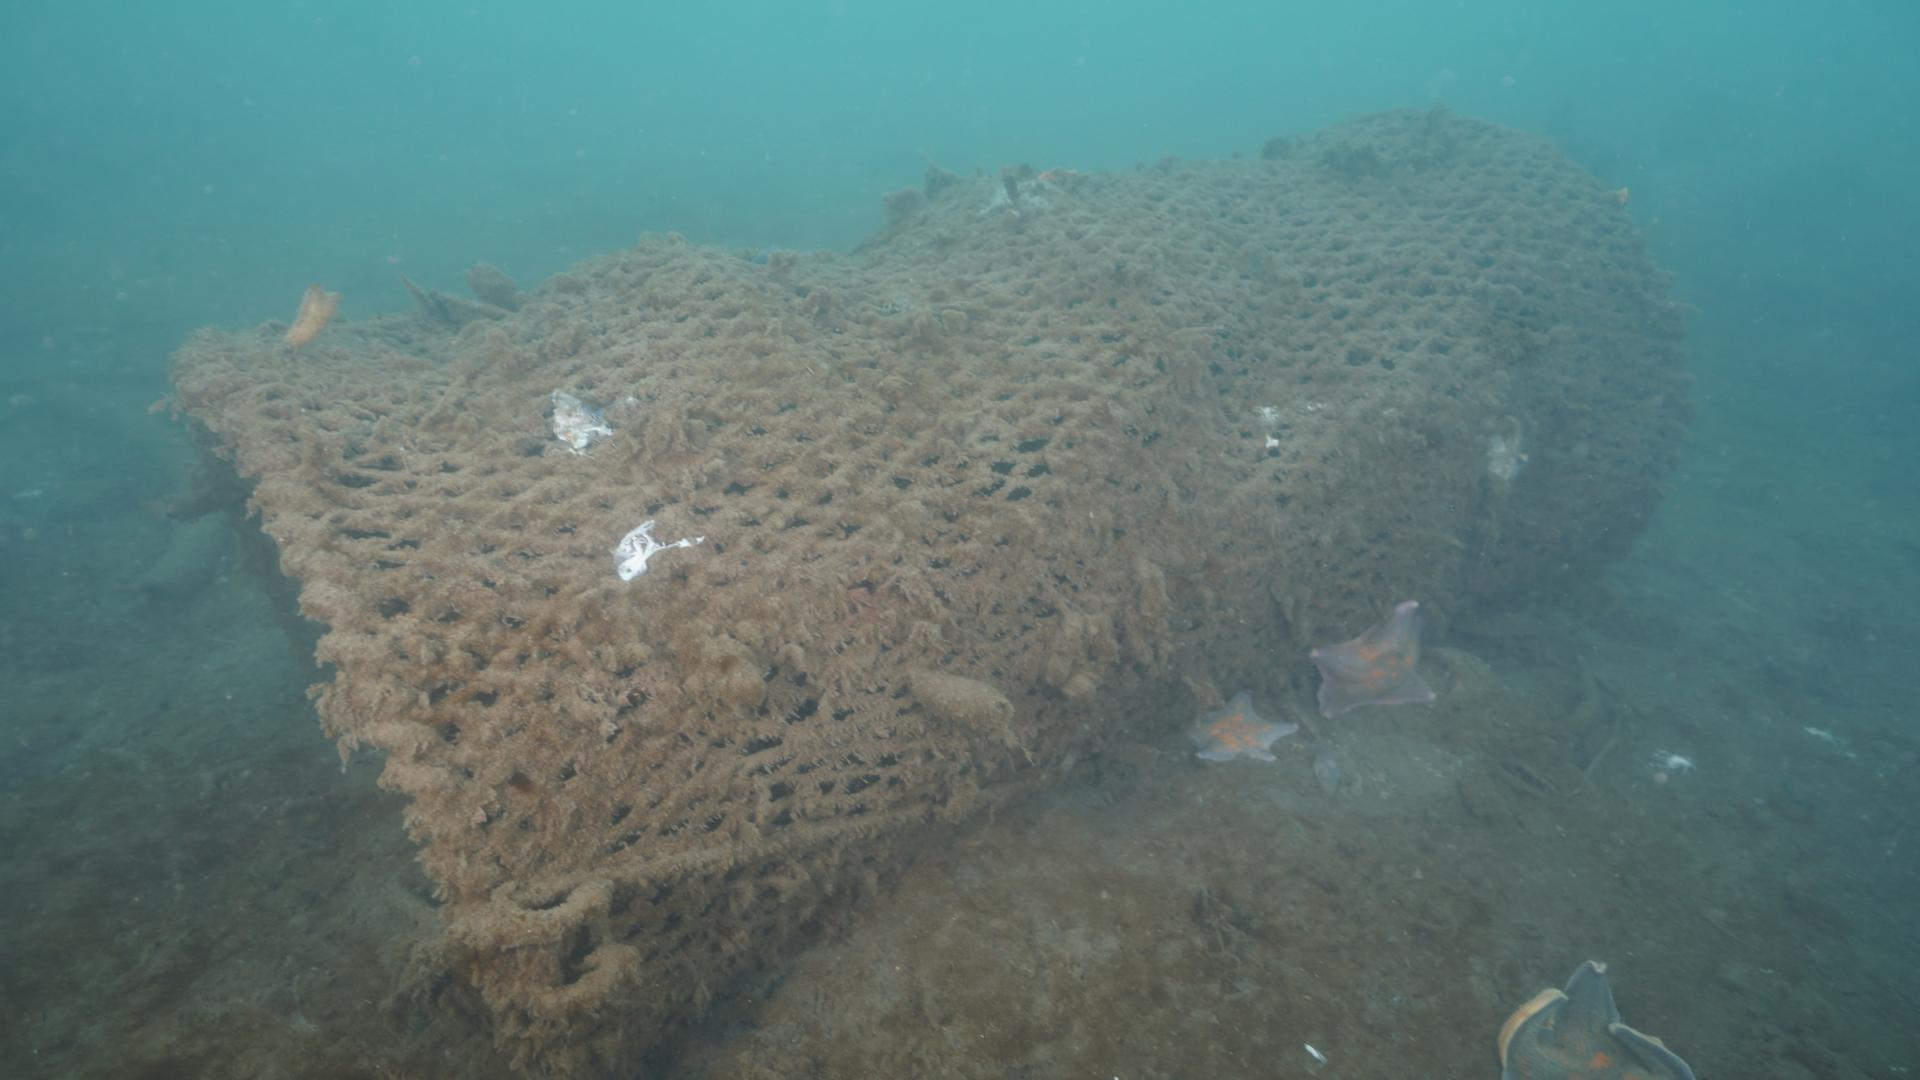spring fish trap: (164, 96, 1693, 1073)
